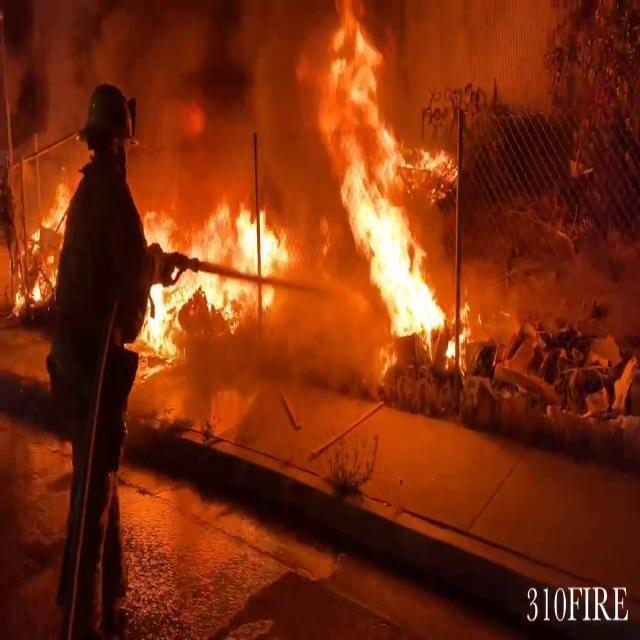Fire: (138, 1, 464, 380)
Smoke: (1, 0, 310, 201)
